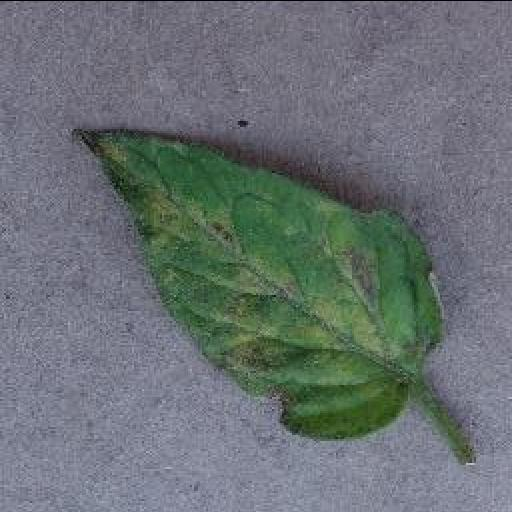disease_tomato: (74, 128, 446, 440)
